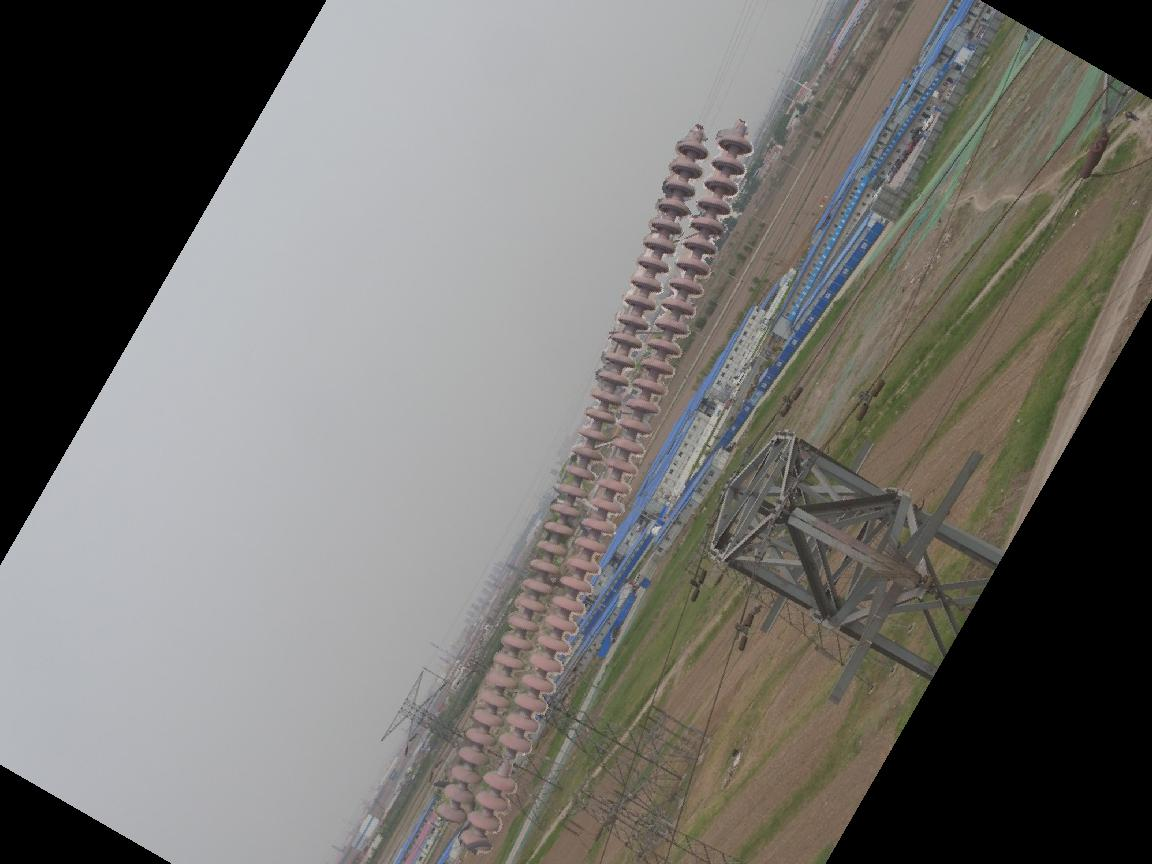insulator: (433, 120, 756, 864)
insulator_stringdrop: (480, 732, 536, 795)
